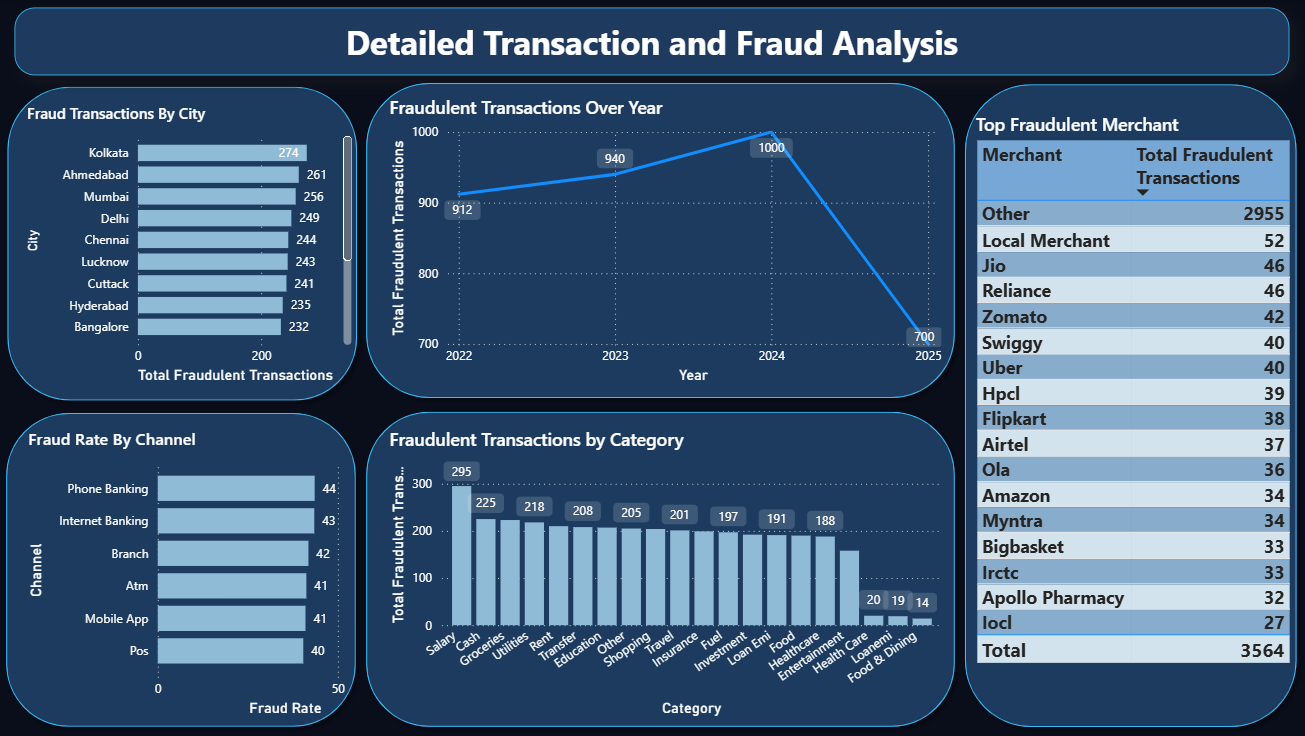

The page's visual inventory and layout, read from the dashboard file:
{"tool":"powerbi","page":{"name":"Detailed Transaction and Fraud Analysis","canvas":[1280,720],"ordinal":1},"visuals":[{"type":"shape","box":[1.2,76.2,360,325],"z":0},{"type":"textbox","box":[17.1,7.3,1247.3,66],"z":1000},{"type":"shape","box":[352.5,72.5,593.8,326.2],"z":2000},{"type":"lineChart","title":"Fraudulent Transactions Over Year","fields":{"Y":["Cleaned Banking Transactions.Total Fraudulent Transactions"],"Category":["Cleaned Banking Transactions.Transaction_Date.Variation.Date Hierarchy.Year"]},"box":[378.8,92.5,550,287.5],"z":3000},{"type":"shape","box":[937.9,73.4,342.4,646.9],"z":4000},{"type":"shape","box":[0,395,360,325],"z":5000},{"type":"shape","box":[352.5,393.8,593.8,326.2],"z":6000},{"type":"barChart","title":"Fraud Rate By Channel","fields":{"Category":["Cleaned Banking Transactions.Channel"],"Y":["Cleaned Banking Transactions.Fraud Rate"]},"box":[25.7,418.2,393.8,287.4],"z":8000},{"type":"clusteredColumnChart","title":"Fraudulent Transactions by Category","fields":{"Category":["Cleaned Banking Transactions.Category"],"Y":["Cleaned Banking Transactions.Total Fraudulent Transactions"]},"box":[379.1,418.2,550.3,287.4],"z":9000},{"type":"barChart","title":"Fraud Transactions By City","fields":{"Category":["Cleaned Banking Transactions.City"],"Y":["Cleaned Banking Transactions.Total Fraudulent Transactions"]},"box":[24.5,100.3,327.7,280],"z":10000},{"type":"tableEx","title":"Top Fraudulent Merchant","fields":{"Values":["Cleaned Banking Transactions.Merchant","Cleaned Banking Transactions.Total Fraudulent Transactions"]},"box":[952.6,110.1,317.9,552.7],"z":11000}]}

Visuals, with their boxes in screenshot pixels (x1, y1, x2, y2), scaled from the page's 1280x720 canvas onto the 1305x736 screenshot:
shape: <bbox>1, 78, 368, 410</bbox>
textbox: <bbox>17, 7, 1289, 75</bbox>
shape: <bbox>359, 74, 965, 408</bbox>
"Fraudulent Transactions Over Year" lineChart: <bbox>386, 95, 947, 388</bbox>
shape: <bbox>956, 75, 1304, 735</bbox>
shape: <bbox>0, 404, 367, 735</bbox>
shape: <bbox>359, 403, 965, 735</bbox>
"Fraud Rate By Channel" barChart: <bbox>26, 427, 428, 721</bbox>
"Fraudulent Transactions by Category" clusteredColumnChart: <bbox>387, 427, 948, 721</bbox>
"Fraud Transactions By City" barChart: <bbox>25, 103, 359, 389</bbox>
"Top Fraudulent Merchant" tableEx: <bbox>971, 113, 1295, 678</bbox>
